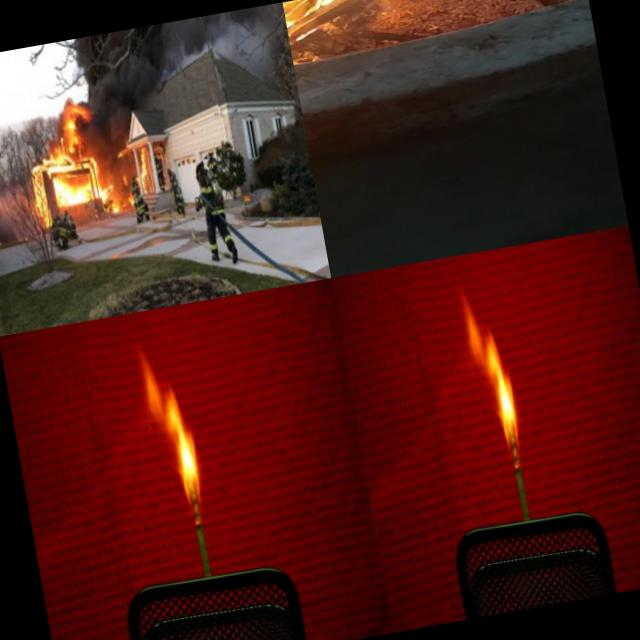fire: (148, 349, 209, 516), (469, 293, 526, 459), (27, 136, 108, 230), (55, 100, 99, 140), (130, 141, 152, 193), (100, 180, 124, 216), (56, 170, 72, 208)
smoke: (71, 17, 208, 101), (197, 3, 285, 71), (92, 94, 137, 144), (95, 140, 131, 184)
